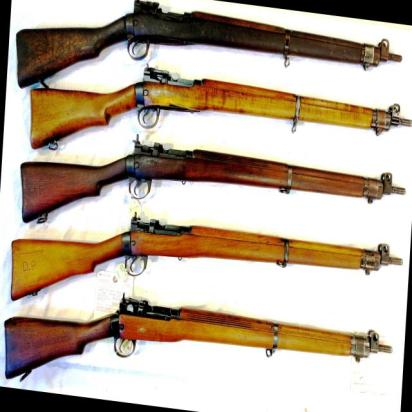Gun: (11, 255, 408, 409), (15, 165, 412, 317), (18, 157, 412, 222), (33, 0, 412, 63), (25, 85, 412, 145)
